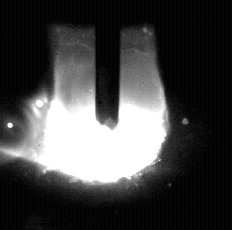arame: (97, 0, 120, 129)
poca: (43, 0, 169, 230)
